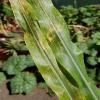Corn rust leaf: (8, 0, 99, 99)
